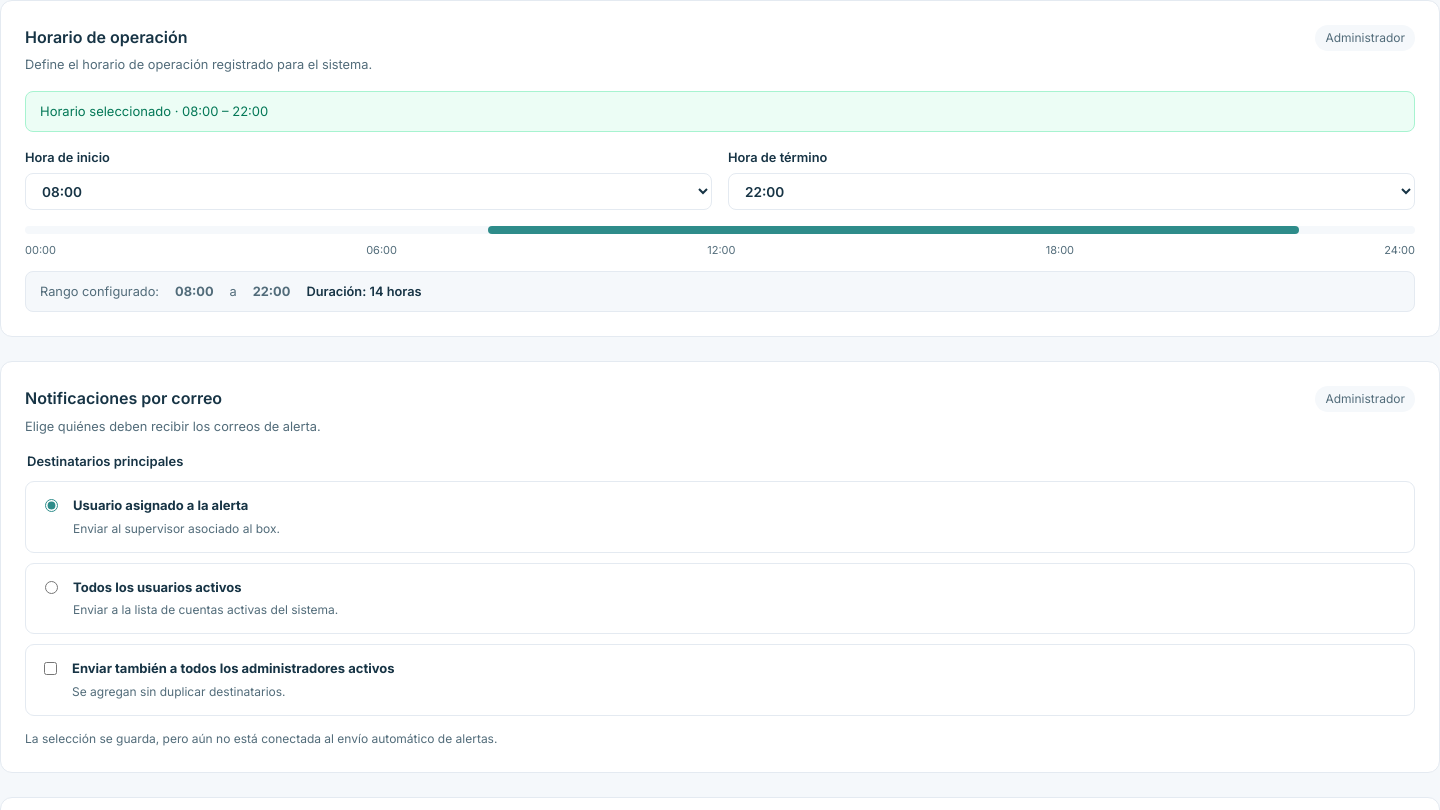
Test: Configuración de destinatarios › guarda la opción elegida y permite reiniciar cambios
Click the radio button labelled "Todos los usuarios activos": (52, 587) [45, 581, 58, 594]
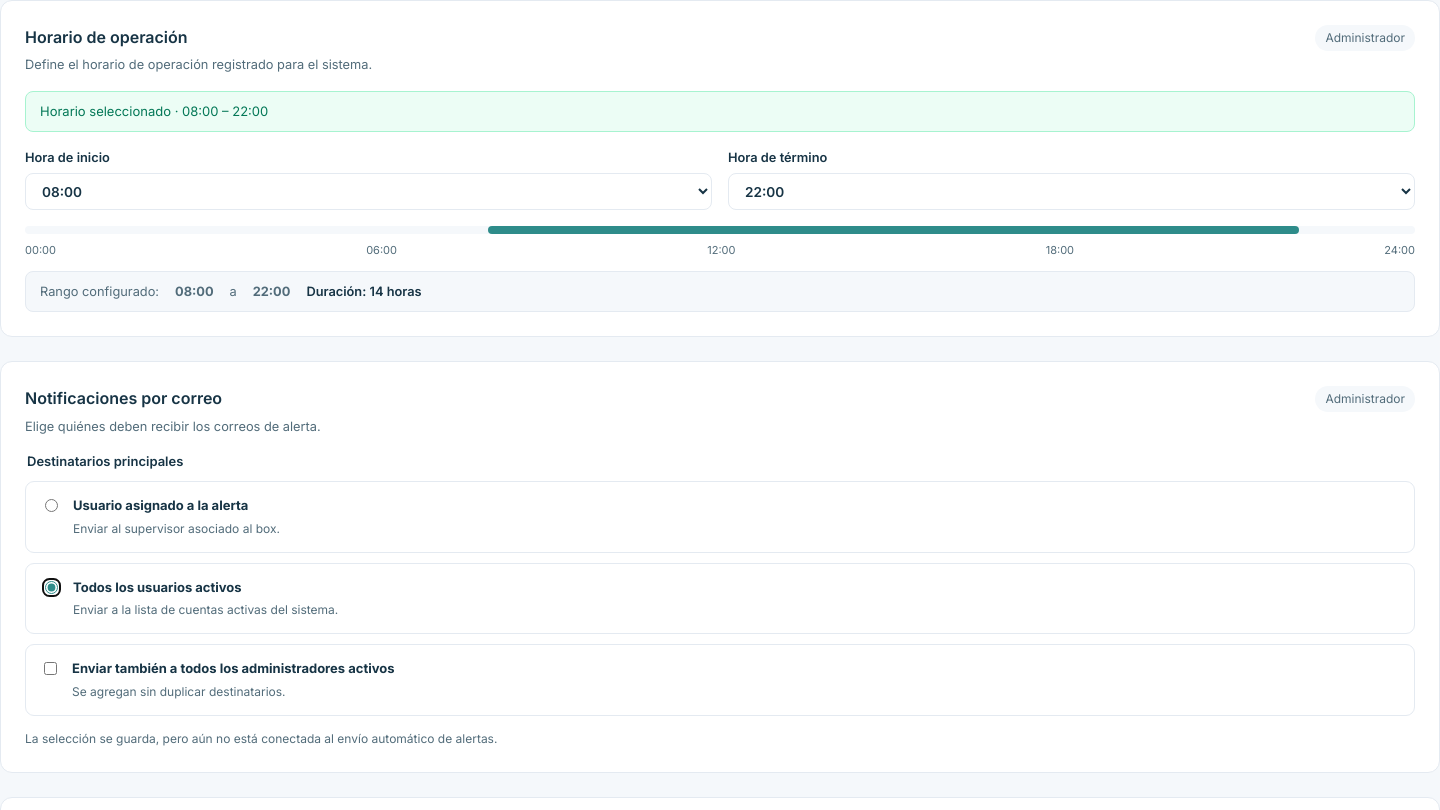
Click the checkbox labelled "Enviar también a todos los administradores activos": (50, 669) [44, 662, 57, 675]
(page scrolled)
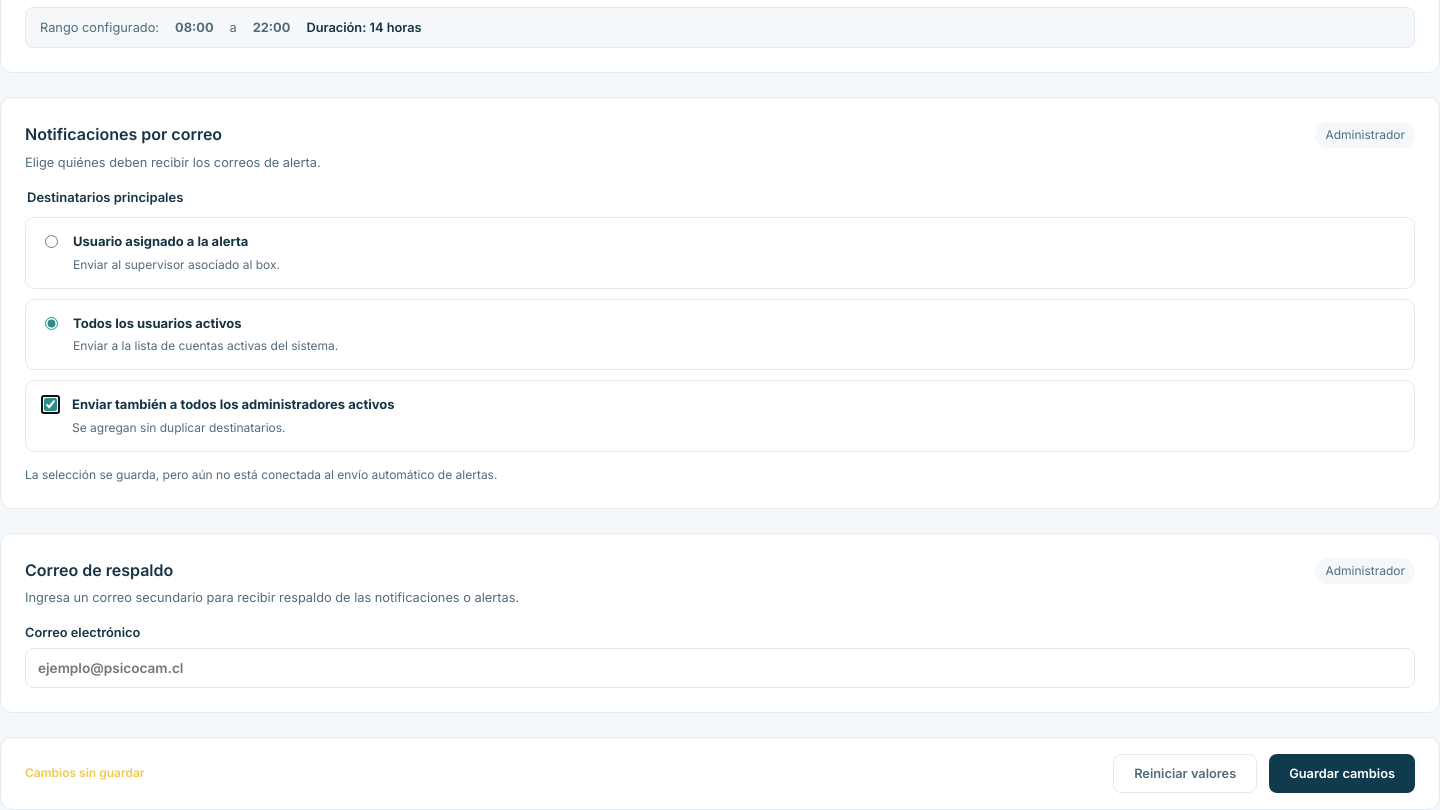
Click the button "Guardar cambios": (1342, 774) [1269, 754, 1415, 793]
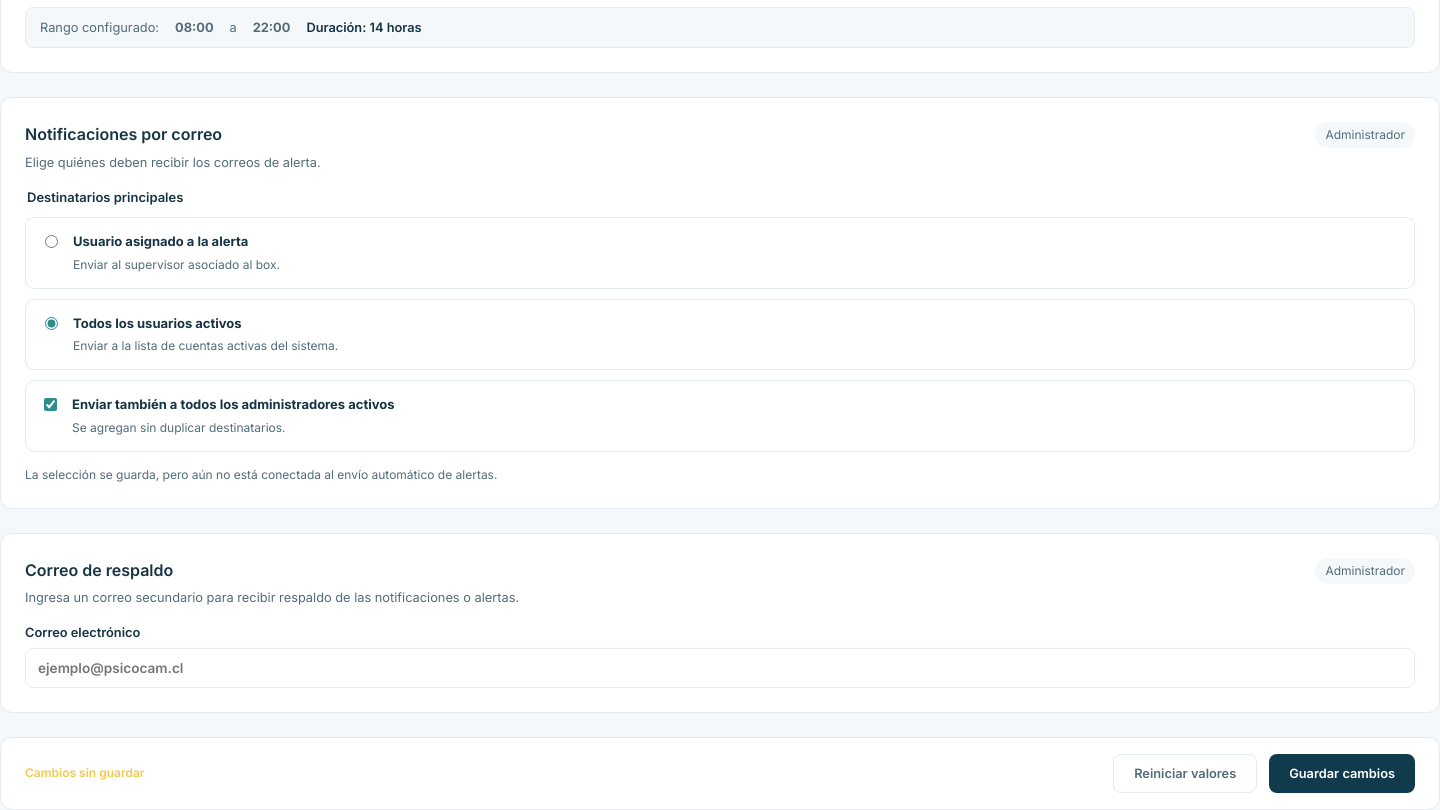
Click the button "Reiniciar valores": (1185, 774) [1113, 754, 1257, 793]
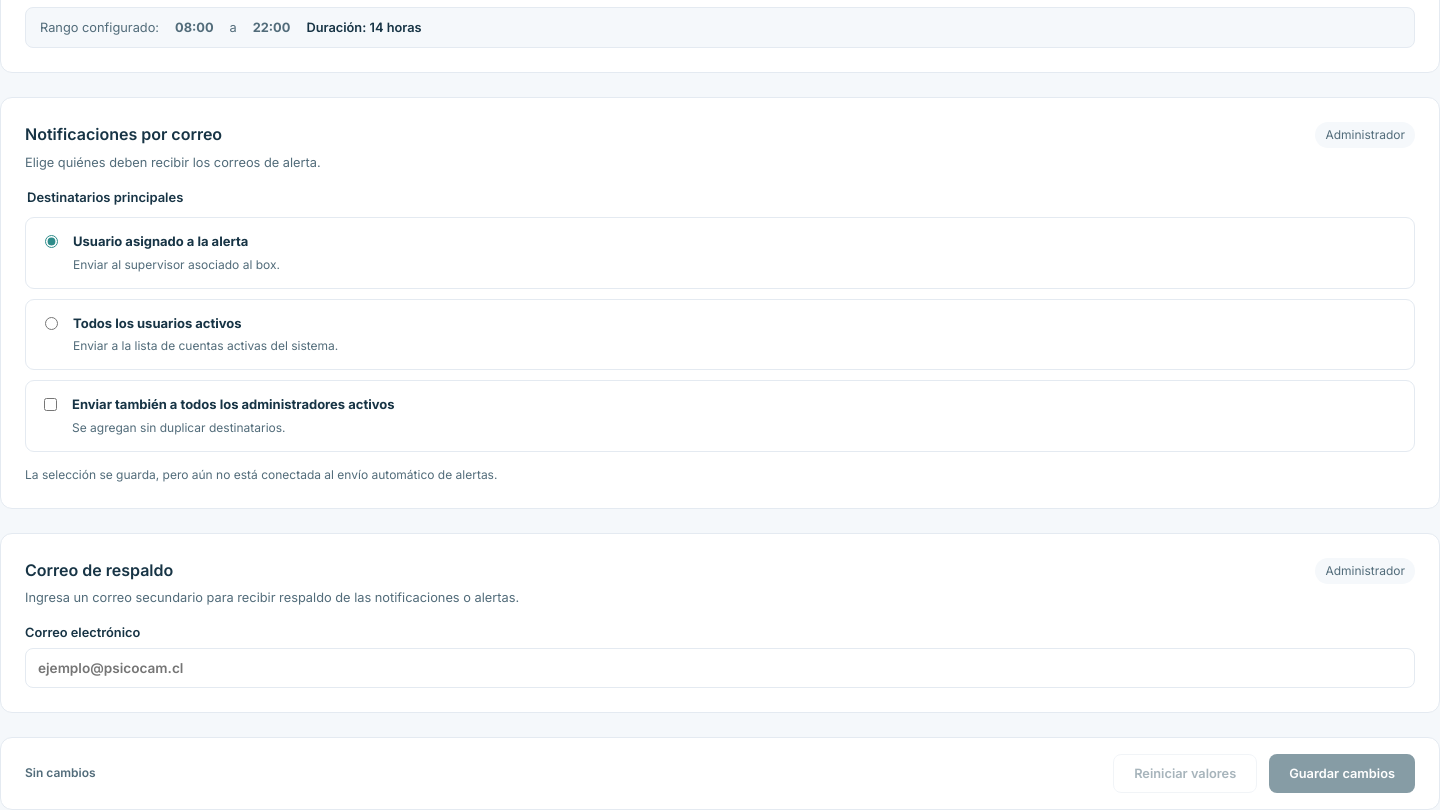
Expected: the radio button labelled "Usuario asignado a la alerta" is checked, [45, 235, 58, 248]
